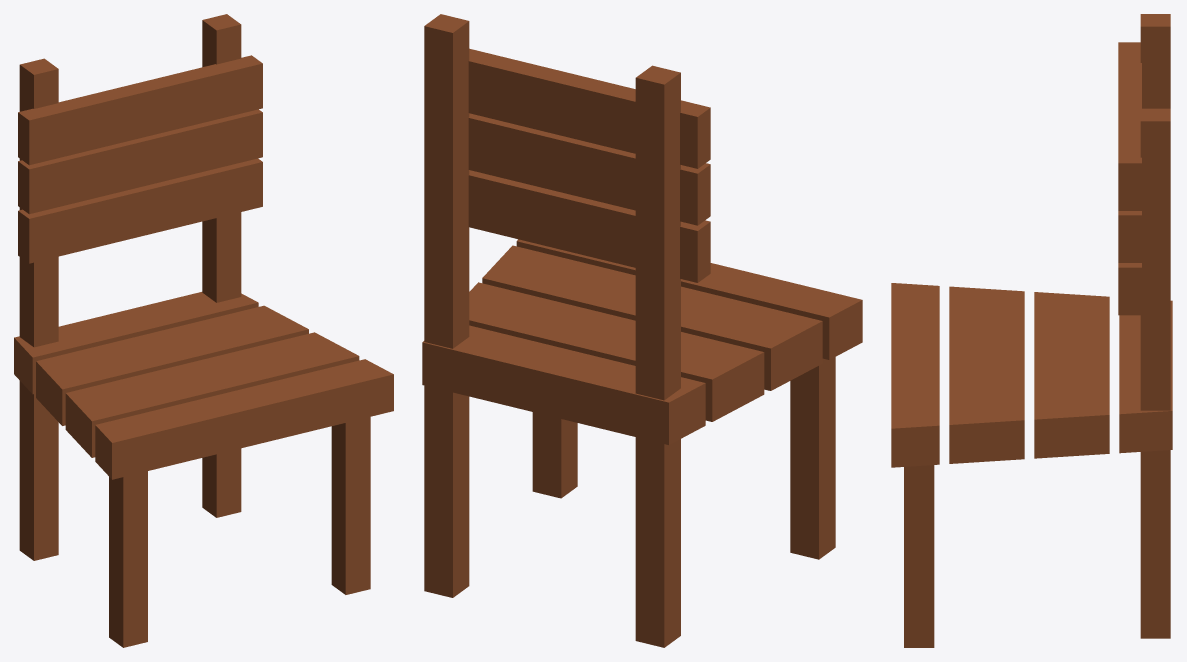
File: Chair.fbx
The picture shows the model from 3 angles, left to right: view 1: azimuth 30°, elevation 25°; view 2: azimuth 150°, elevation 25°; view 3: azimuth 270°, elevation 25°; orthographic projection. The views are drawn at different scales.
Visible parts, largest first — view 1: Chair; view 2: Chair; view 3: Chair.
Part boxes in pixels (left/top/right/bottom): Chair: left=14, top=14, right=393, bottom=647; Chair: left=422, top=14, right=862, bottom=647; Chair: left=891, top=14, right=1172, bottom=647.
Size of the model in its own units: 68.37 by 113 by 55.73.
